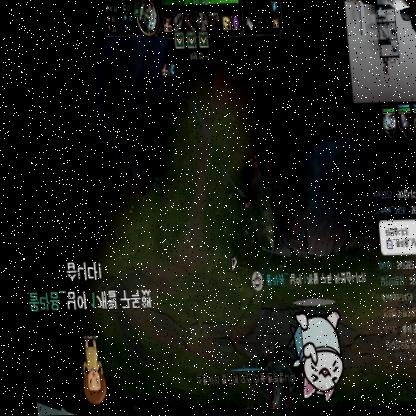donation: (18, 252, 154, 410), (241, 267, 371, 405)
streamer: (382, 0, 416, 42)
